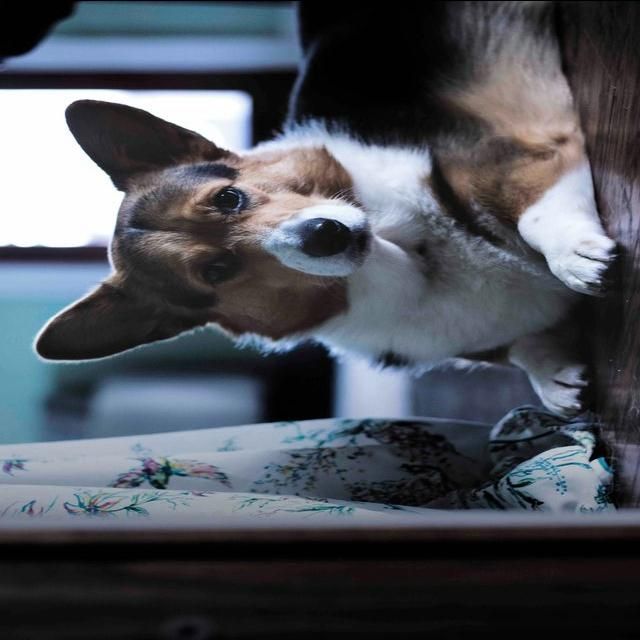corgi: (32, 2, 619, 420)
